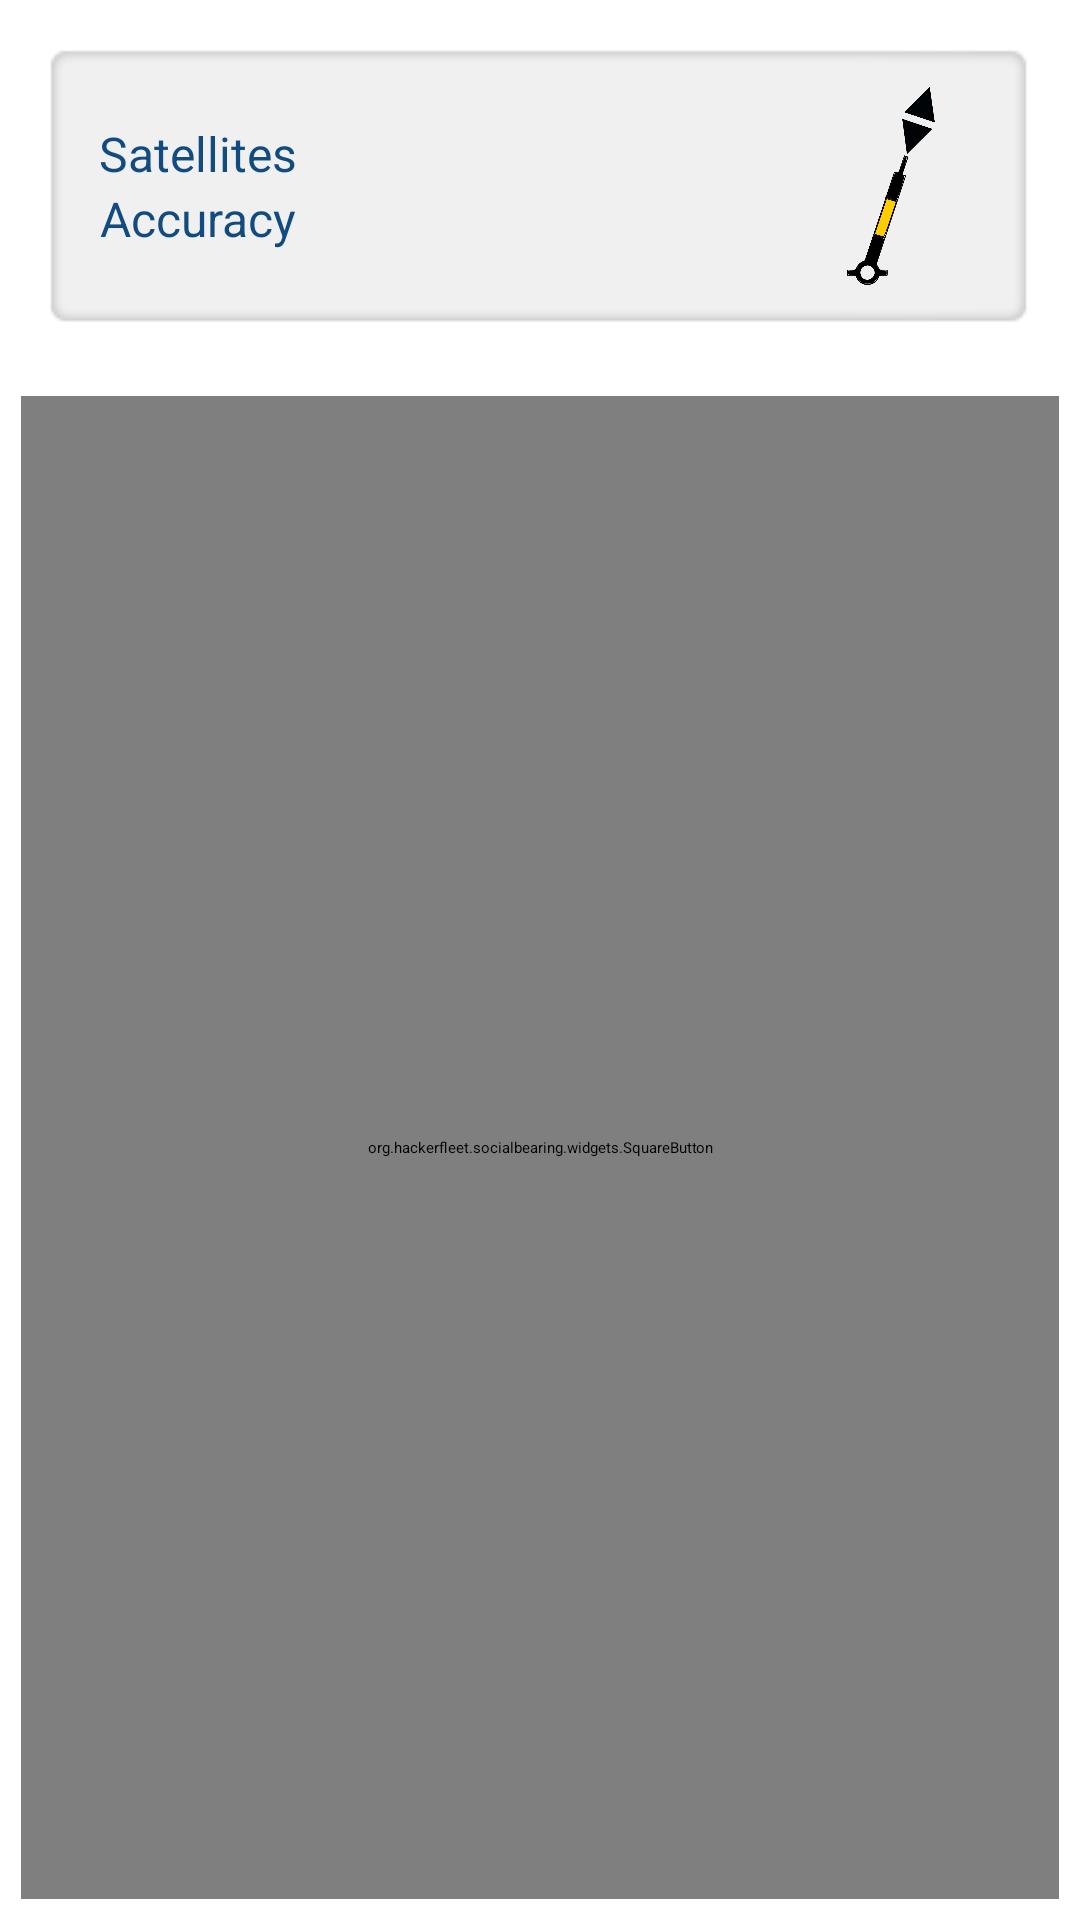

Screen size 1080 x 1920. Icon name, then its box in pixels as (x1, y1, x2, y2):
spar east: (847, 87, 935, 285)
